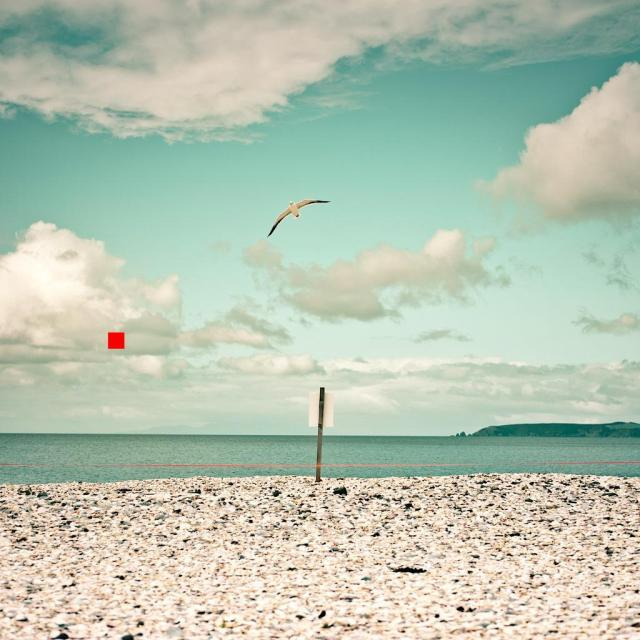RedSquare: (107, 328, 127, 351)
